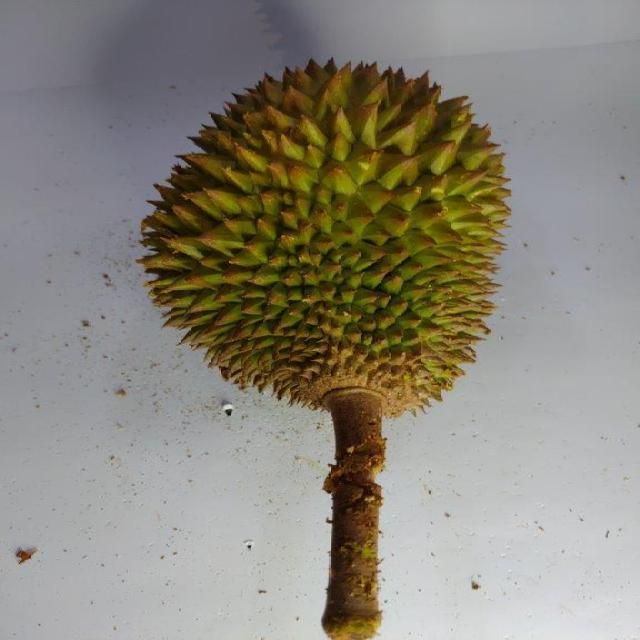mature: (138, 56, 511, 422)
